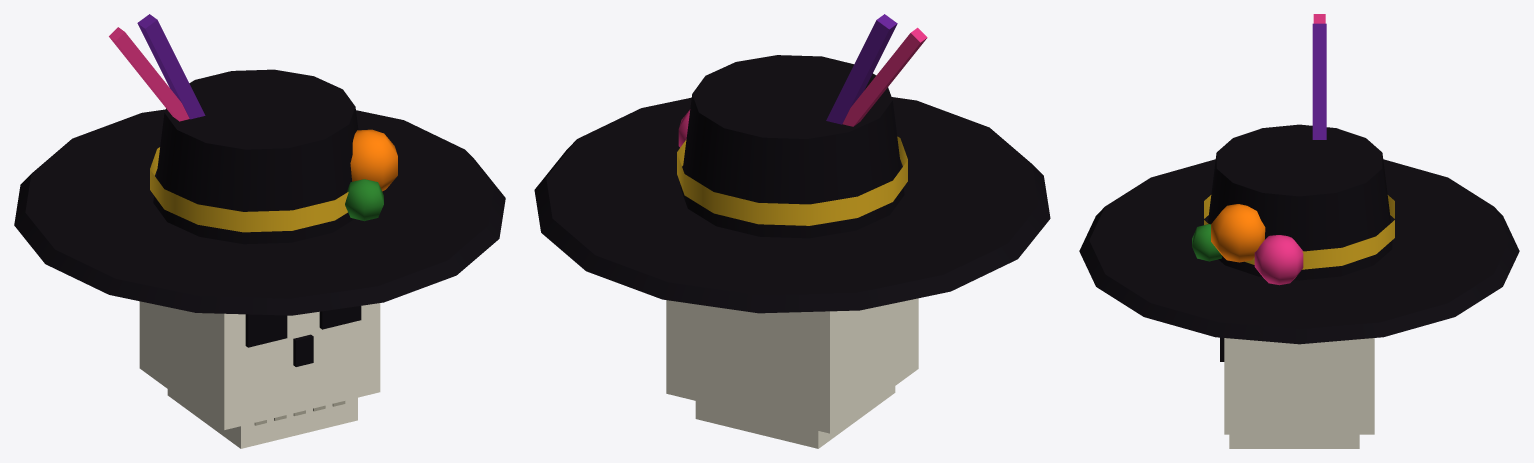
File: catrina_cabeza.obj
3 renders of one model, left to right at view 1: azimuth 30°, elevation 25°; view 2: azimuth 150°, elevation 25°; view 3: azimuth 270°, elevation 25°, orthographic. The views are drawn at different scales.
Visible parts, largest first — view 1: Cabeza; view 2: Cabeza; view 3: Cabeza.
Part boxes in pixels (<box>): Cabeza: <box>14,14,505,448</box>; Cabeza: <box>534,14,1050,448</box>; Cabeza: <box>1079,14,1519,448</box>.
Size of the model in its own units: 0.44 by 0.3955 by 0.44.
1 material, 1 textured.
